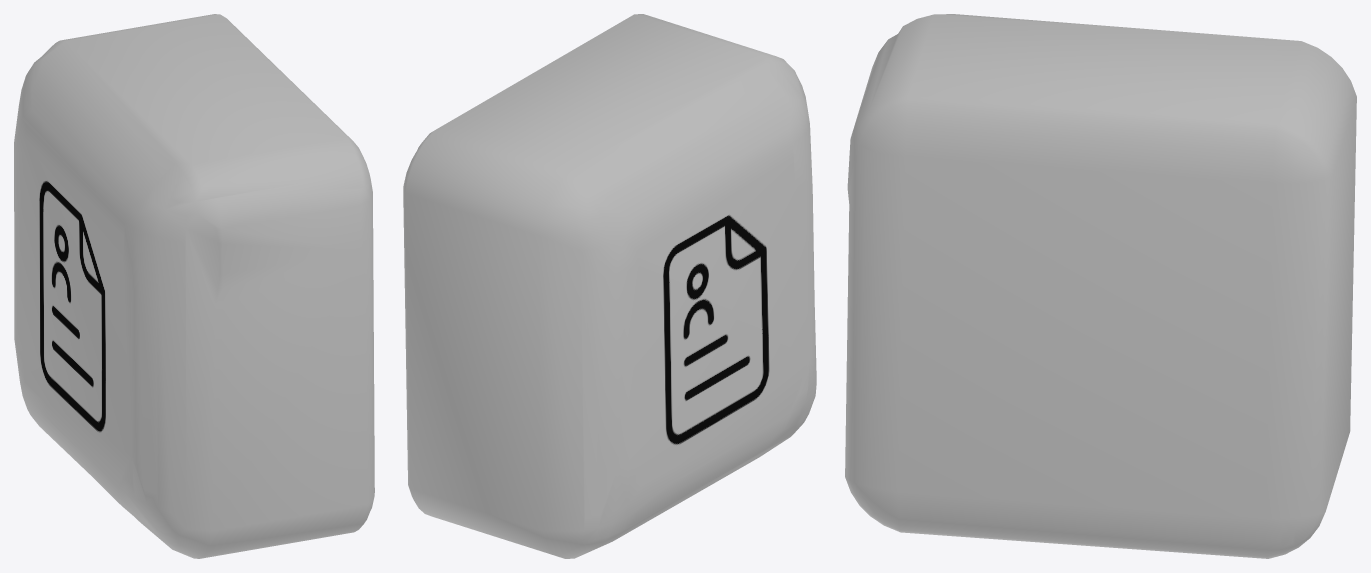
File: resume.glb
3 renders of one model, left to right at view 1: azimuth 30°, elevation 25°; view 2: azimuth 150°, elevation 25°; view 3: azimuth 270°, elevation 25°, orthographic. The views are drawn at different scales.
Visible parts, largest first — view 1: resume; view 2: resume; view 3: resume.
Part boxes in pixels (bbox=[...]): resume: bbox=[14, 14, 374, 558]; resume: bbox=[403, 14, 816, 558]; resume: bbox=[845, 14, 1356, 558].
Bounding box in the file's own units: 4.88 × 7.33 × 7.61.
Materials: 1 (1 with a texture image).
